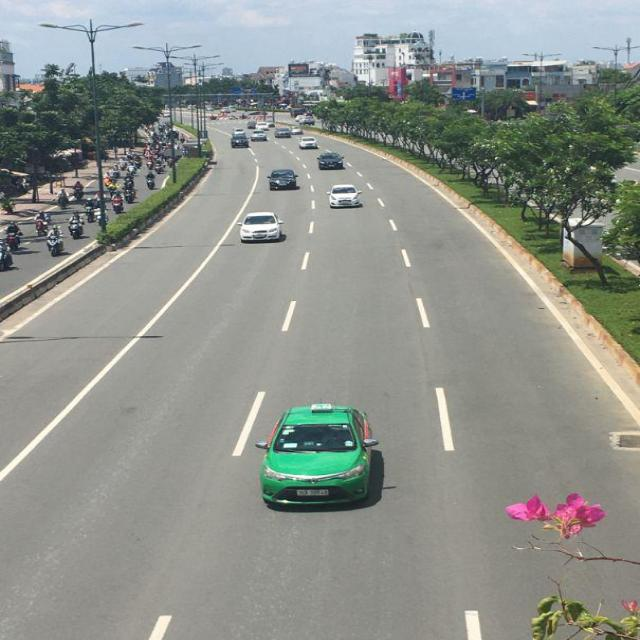car: (258, 403, 382, 511), (241, 213, 285, 243), (331, 186, 362, 210), (268, 168, 299, 189), (317, 153, 344, 172), (230, 130, 249, 148), (300, 137, 319, 149), (252, 130, 268, 141)
motorcycle: (48, 231, 64, 256)
